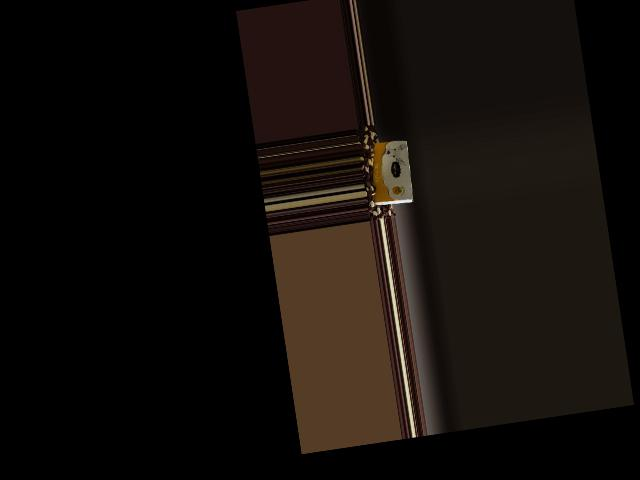chocolate: (363, 134, 418, 210)
